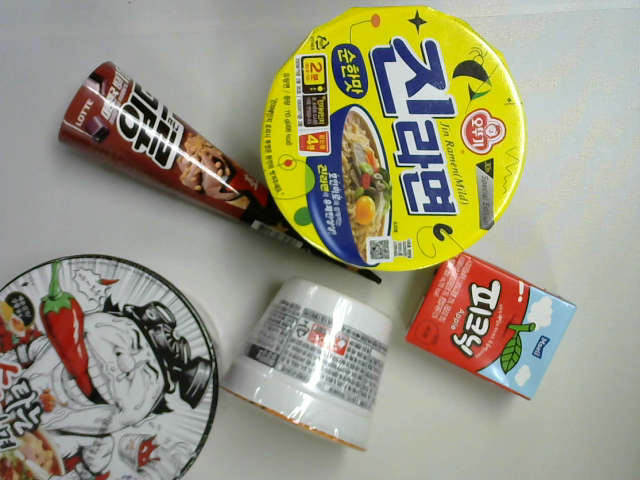HeJangsock: (1, 250, 228, 478)
Jinlamyeon_Mild_Taste_Large_Cup: (256, 1, 535, 274)
Picnic_Apple: (401, 250, 590, 410)
Udongmini: (212, 275, 392, 457)
World_Cone_Choco: (53, 53, 395, 293)
